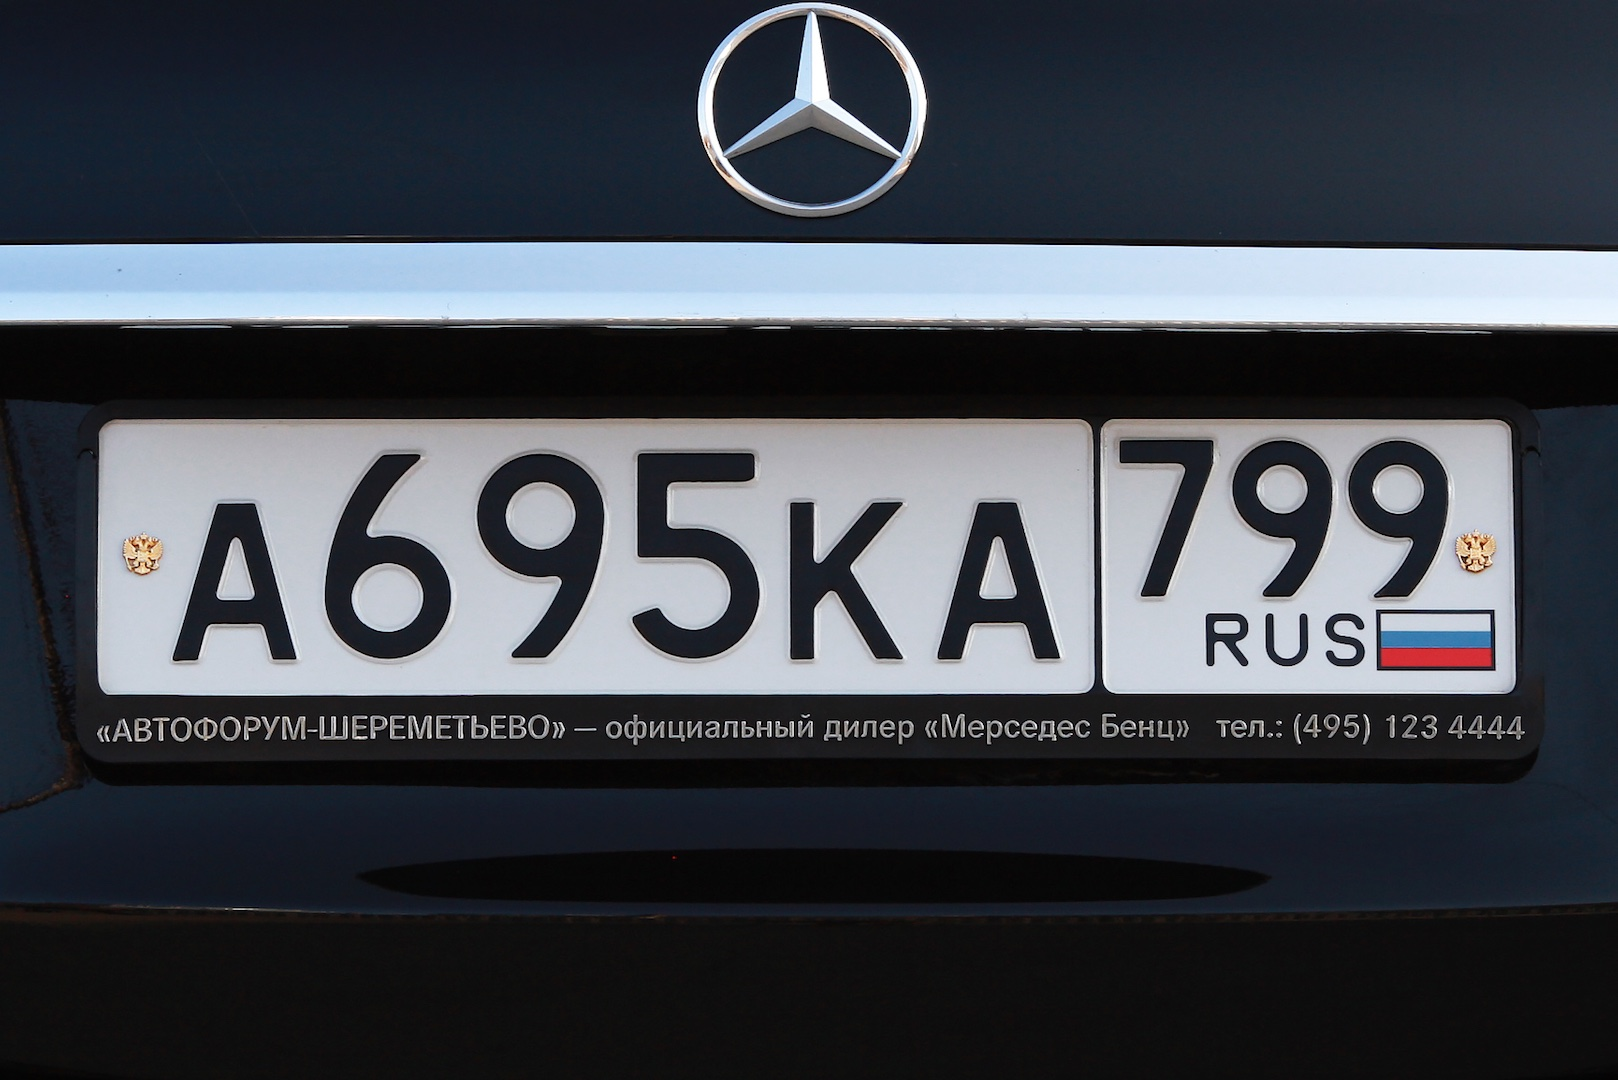number_plate: (73, 408, 1512, 679)
